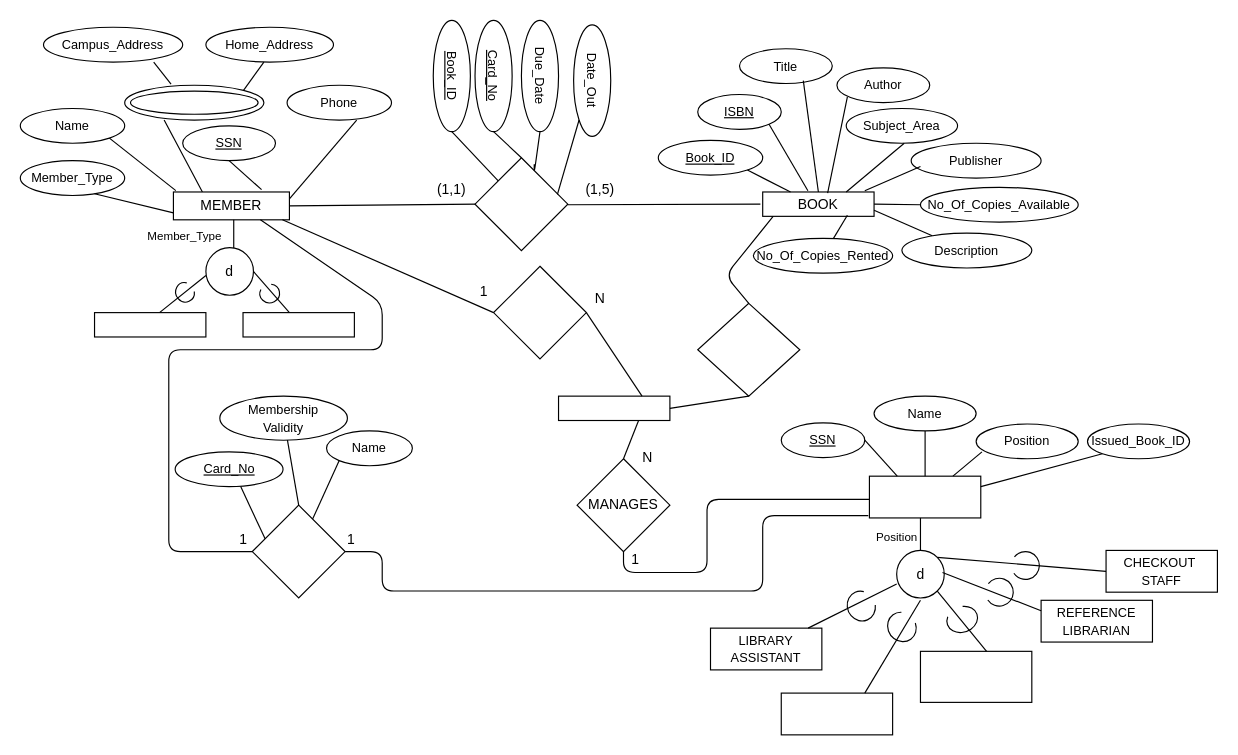
This 1238x755 diagram has some shape labels left out. Here are the shapes that lost their labels. From the top down, the centre of each, then its label:
At point 194,102: "Address".
At point 521,204: "LOANS".
At point 149,324: "STUDENT".
At point 298,324: "PROFESSOR".
At point 539,312: "SEARCH".
At point 748,349: "KEEP RECORDS".
At point 613,407: "CATALOG".
At point 924,496: "LIBRARY_STAFF".
At point 298,551: "ISSUE MEMBER CARD".
At point 975,676: "DEPARTMENTAL ASSOCIATE LIBRARIAN".
At point 836,713: "CHIEF LIBRARIAN".
